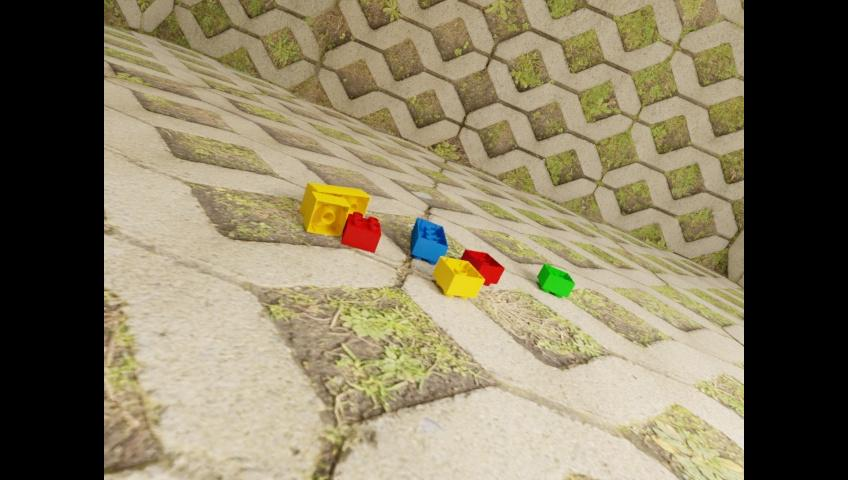2x2_green: (537, 263, 574, 298)
2x2_red: (459, 248, 504, 284), (341, 211, 380, 252)
2x2_yellow: (432, 255, 483, 299), (302, 190, 349, 236)
4x2_blue: (412, 216, 447, 264)
4x2_yellow: (299, 181, 370, 217)
